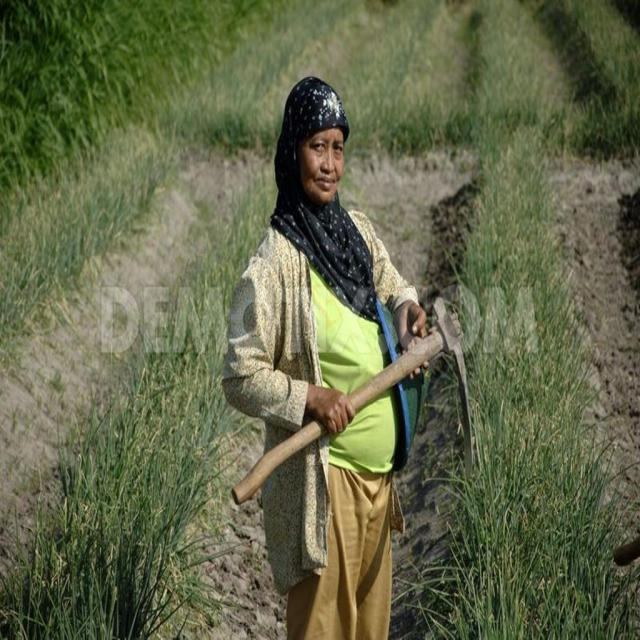Face: (294, 121, 349, 193)
